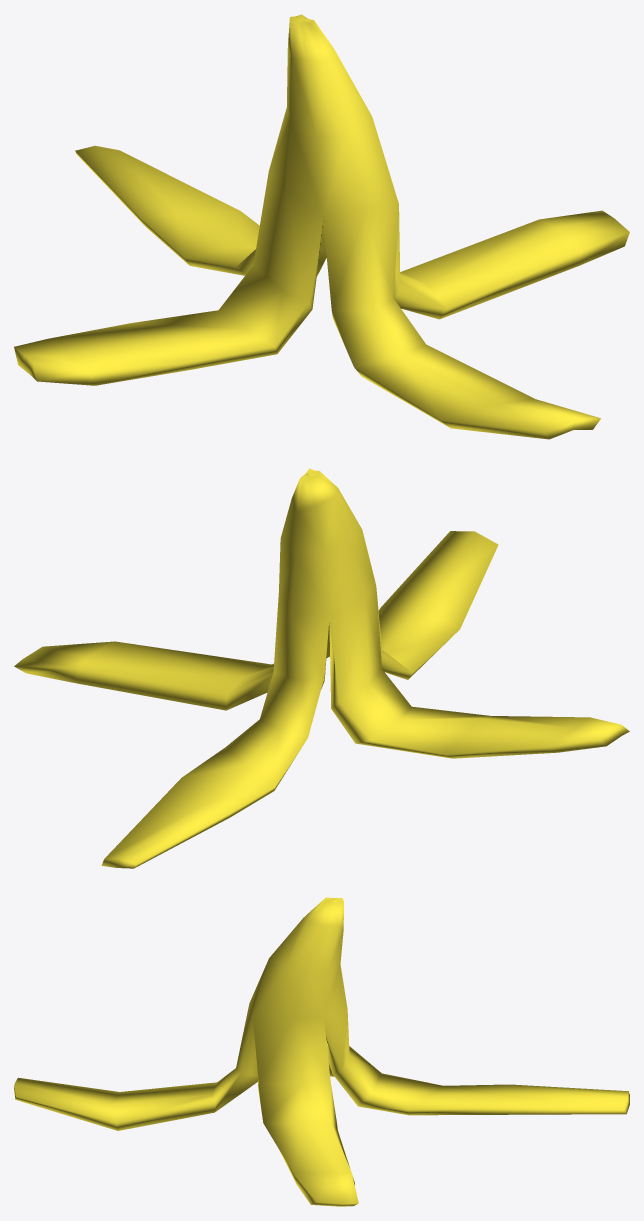
Rendered from BananaPeel.dae.
The picture shows the model from 3 angles, top to bottom: view 1: azimuth 30°, elevation 25°; view 2: azimuth 150°, elevation 25°; view 3: azimuth 270°, elevation 25°; orthographic projection. The views are drawn at different scales.
Visible parts, largest first — view 1: banana_peel_1; view 2: banana_peel_1; view 3: banana_peel_1.
Part boxes in pixels (x1=…): banana_peel_1: x1=14, y1=14, x2=629, y2=439; banana_peel_1: x1=14, y1=468, x2=629, y2=868; banana_peel_1: x1=14, y1=897, x2=629, y2=1206.
Size of the model in its own units: 0.1446 by 0.1753 by 0.0657.
